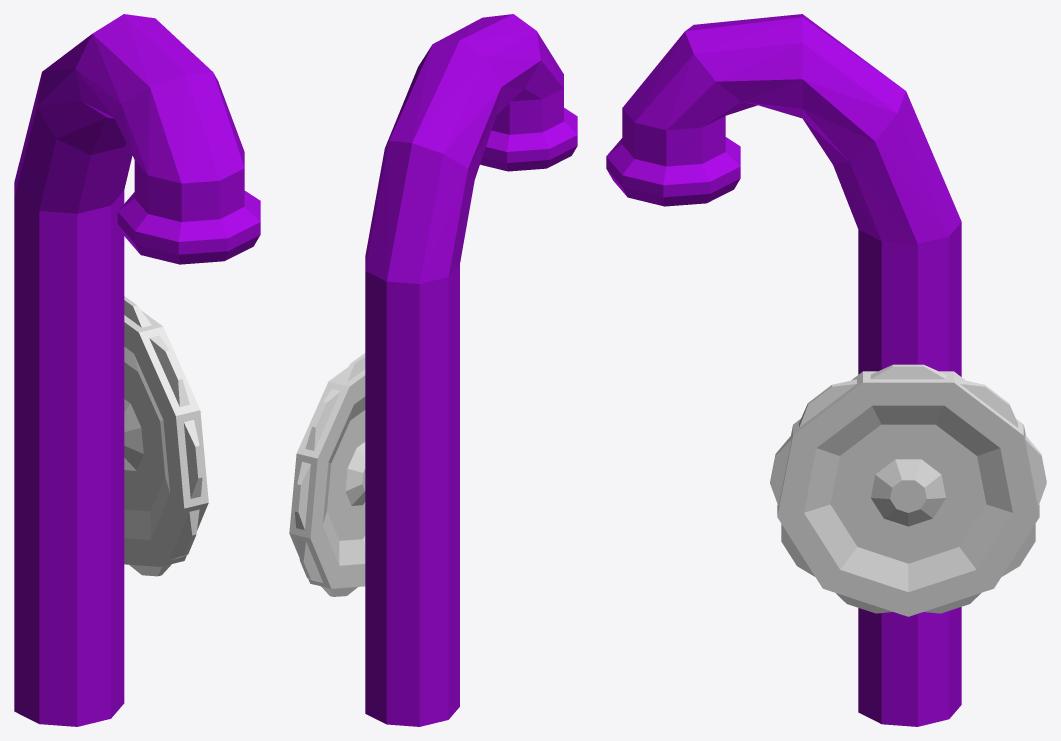
Rendered from SM_Generator.fbx.
The picture shows the model from 3 angles, left to right: view 1: azimuth 30°, elevation 25°; view 2: azimuth 150°, elevation 25°; view 3: azimuth 270°, elevation 25°; orthographic projection. The views are drawn at different scales.
Visible parts, largest first — view 1: Cylinder.001; view 2: Cylinder.001; view 3: Cylinder.001.
Part boxes in pixels (x1,y1,x2,y2): Cylinder.001: [14, 14, 260, 726]; Cylinder.001: [289, 14, 577, 726]; Cylinder.001: [606, 14, 1046, 726].
Bounding box in the file's own units: 110 × 569 × 331.
